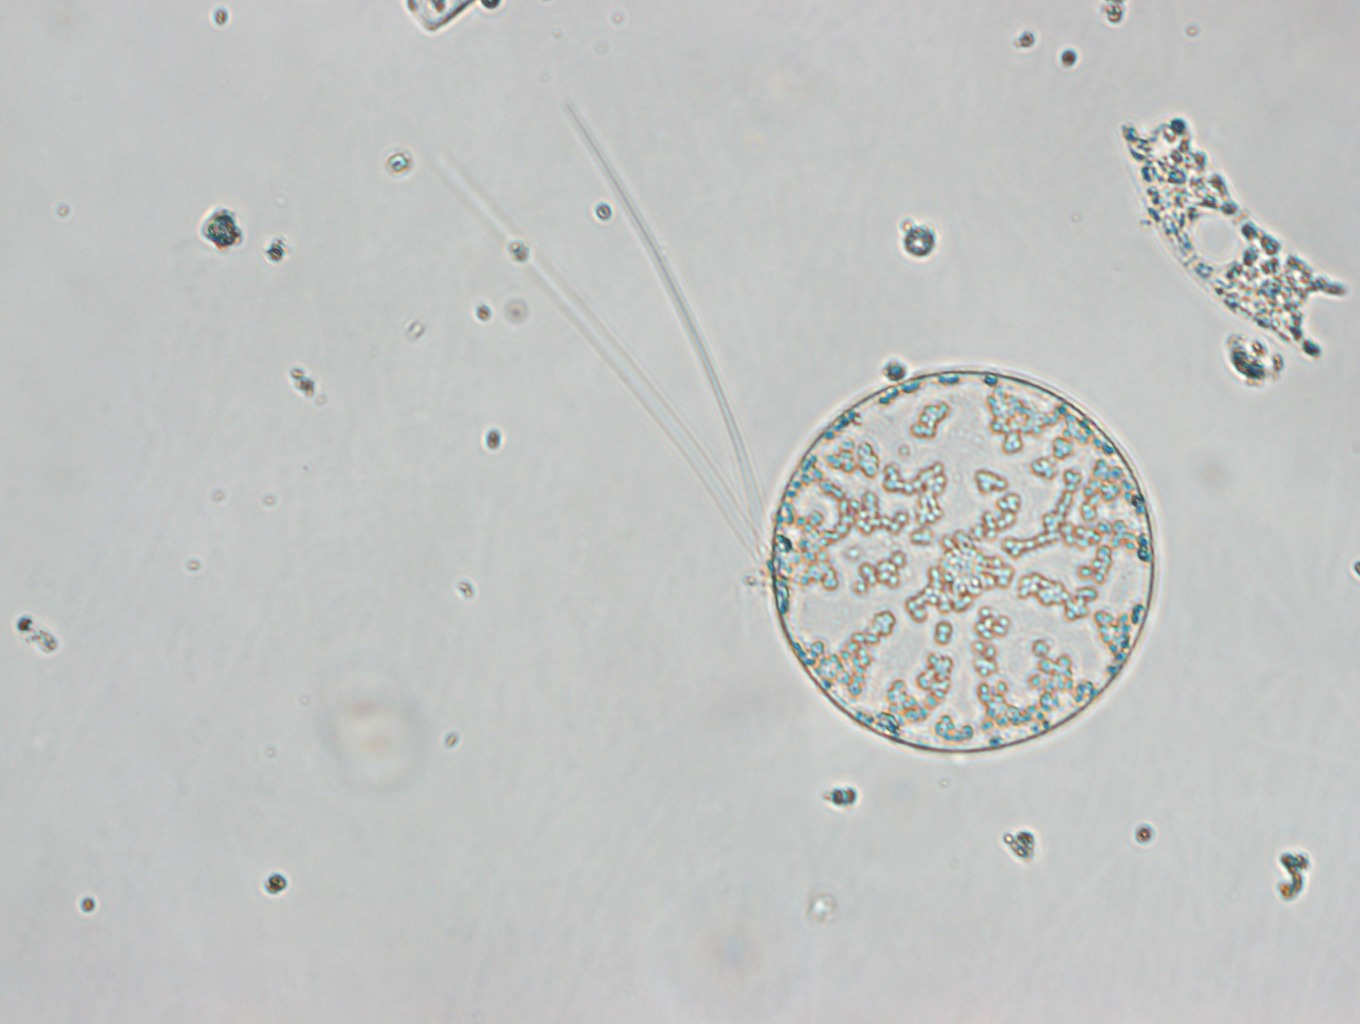coscinodiscus: (761, 360, 1160, 763)
eucampia: (1115, 108, 1341, 358)
